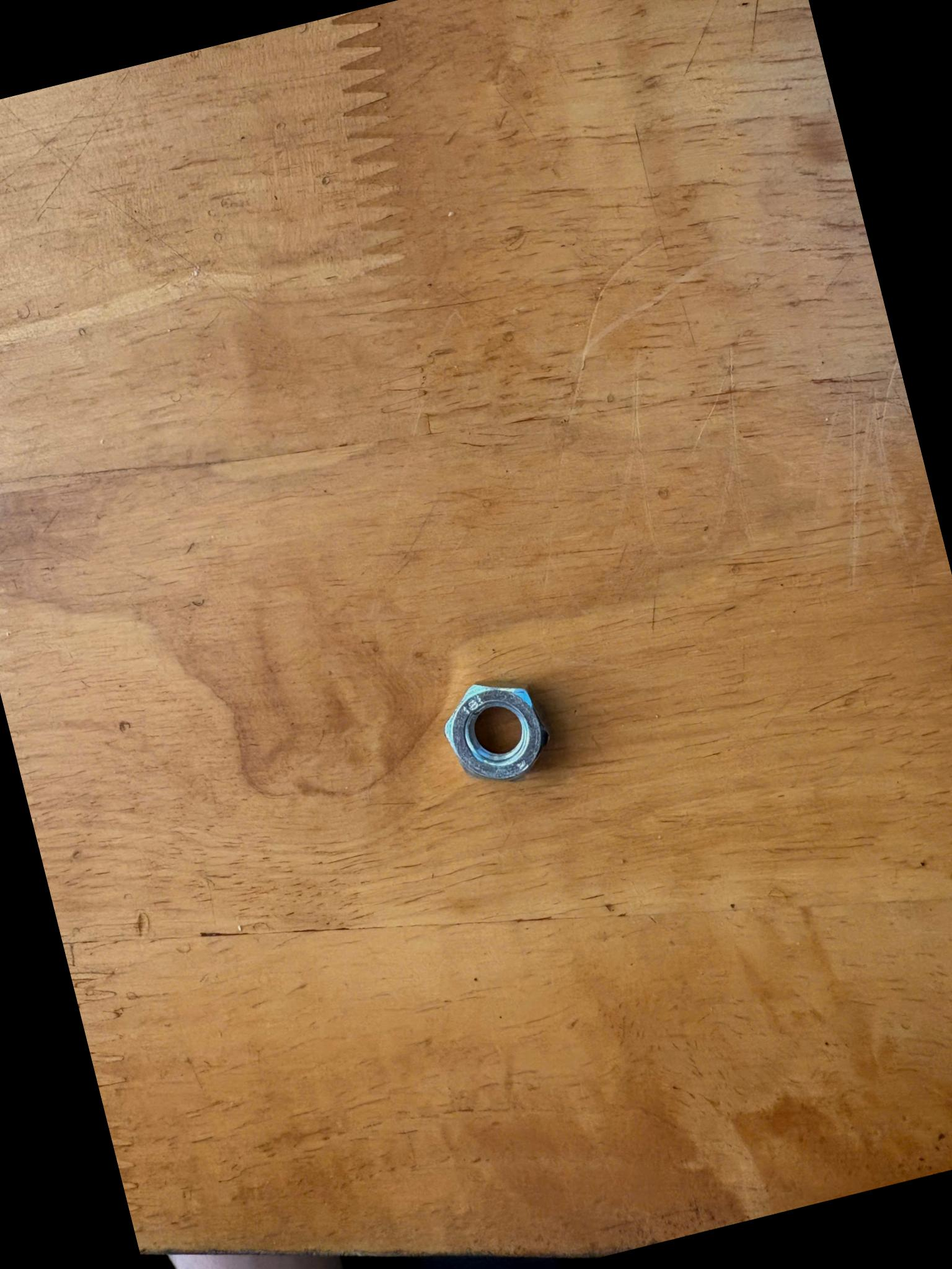nut: (424, 654, 584, 814)
